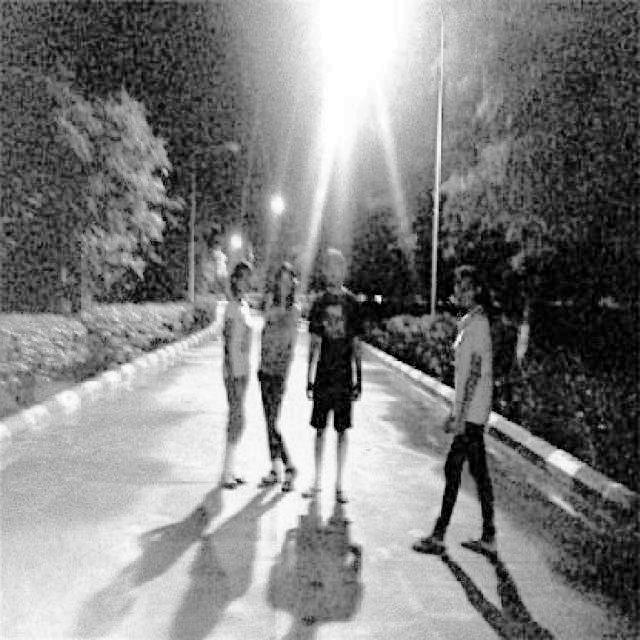Person: (408, 267, 508, 562), (300, 246, 377, 509), (253, 256, 310, 498), (219, 252, 258, 498)
